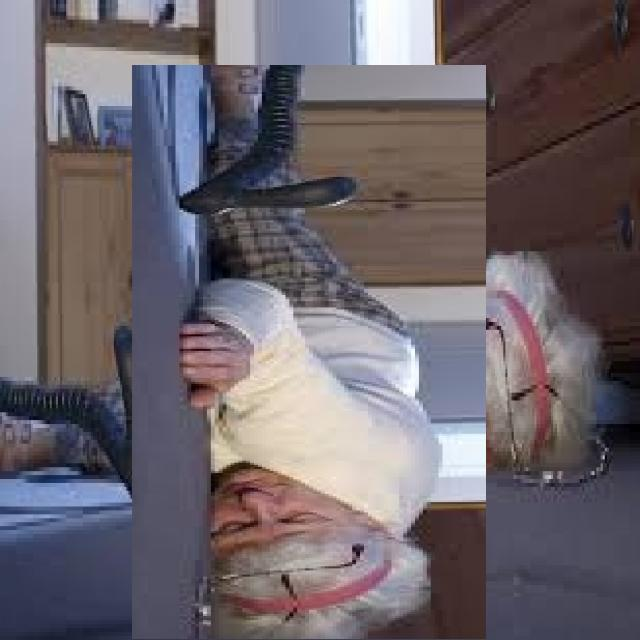Fall: (140, 65, 454, 640)
